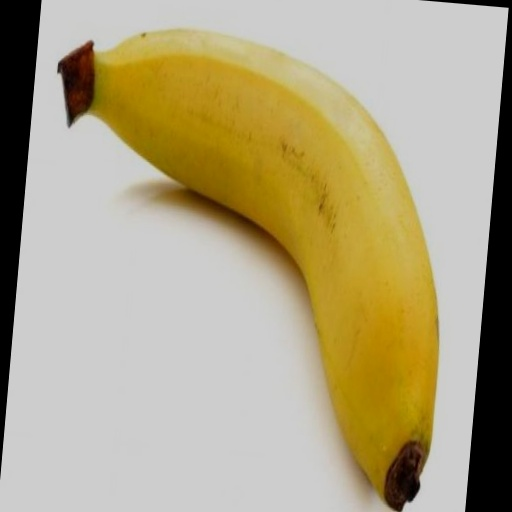fruit: (58, 30, 438, 510)
